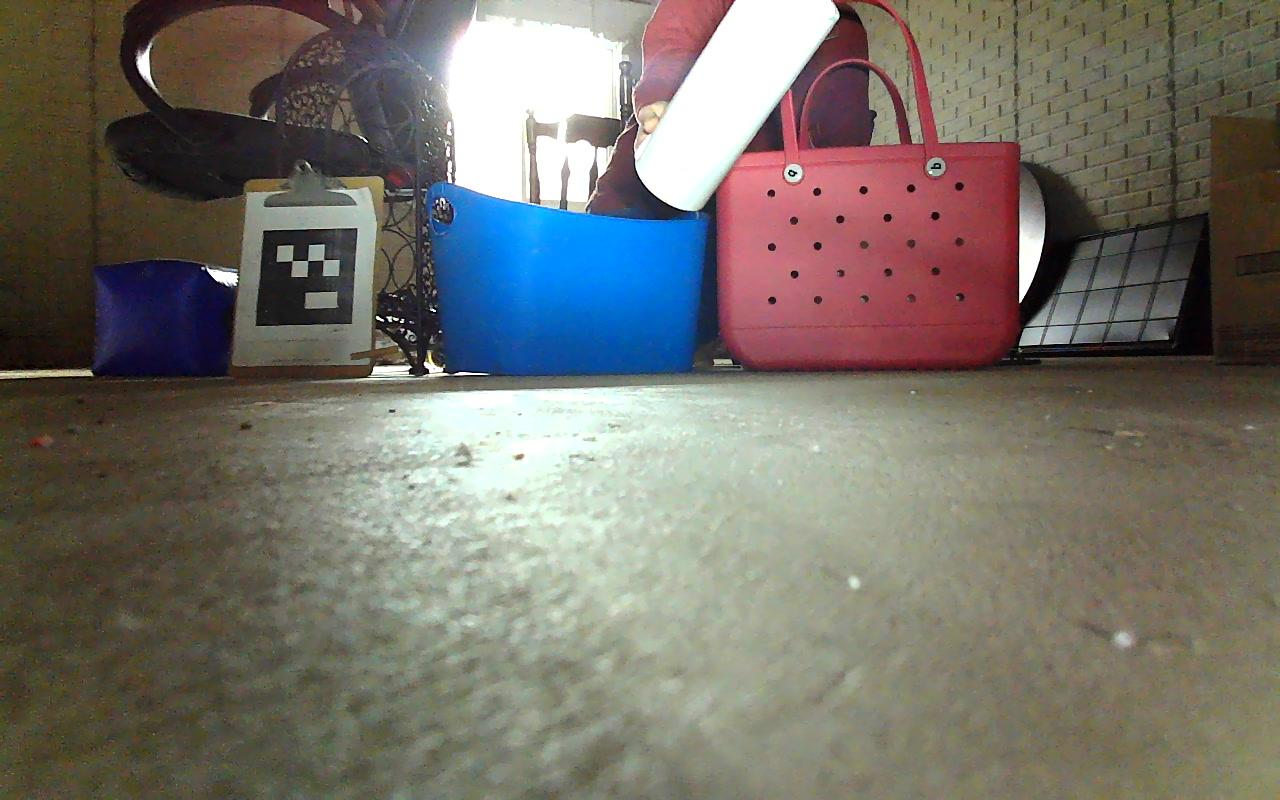coral: (634, 0, 840, 217)
